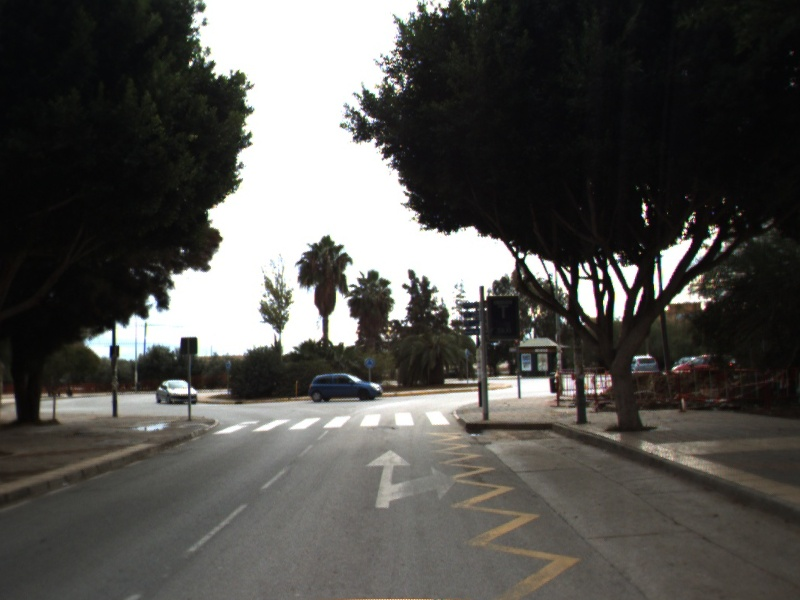STRAIGHT_RIGHT: (363, 447, 458, 510)
